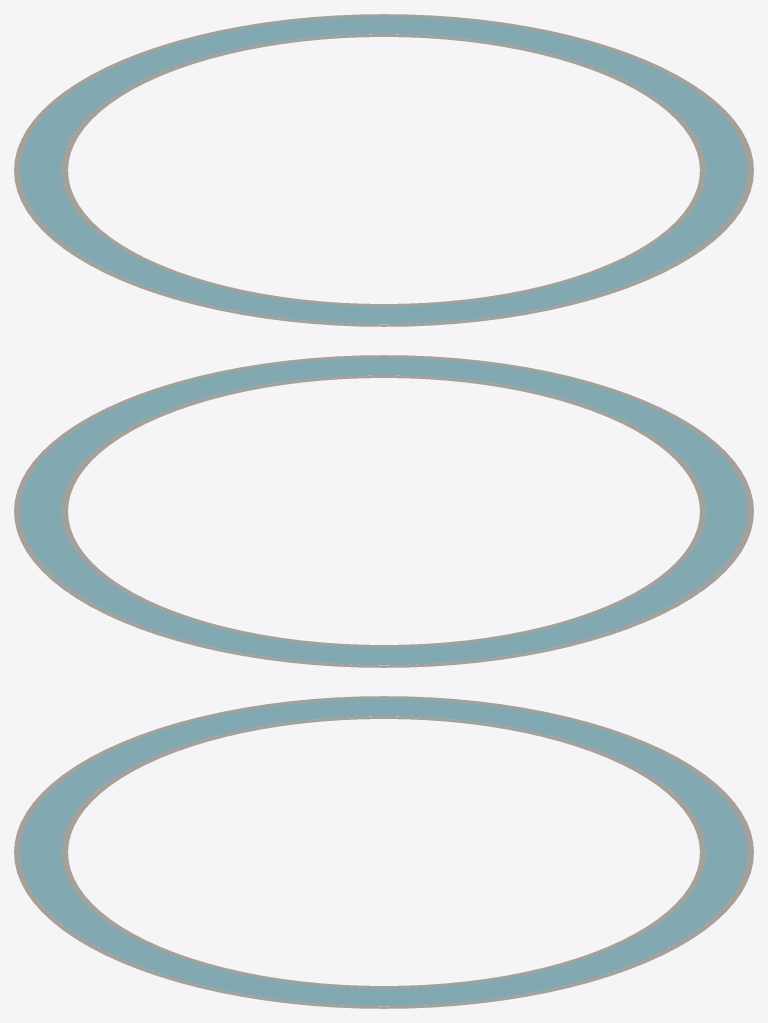
Rendered from river_ring_candidate.glb.
3 renders of one model, top to bottom at view 1: azimuth 30°, elevation 25°; view 2: azimuth 150°, elevation 25°; view 3: azimuth 270°, elevation 25°, orthographic.
Parts seen in each view (by area): view 1: river_ring_candidate_0, river_ring_candidate_2, river_ring_candidate_1; view 2: river_ring_candidate_0, river_ring_candidate_2, river_ring_candidate_1; view 3: river_ring_candidate_0, river_ring_candidate_2, river_ring_candidate_1.
Part boxes in pixels (box(x1,y1,x2,y2)): river_ring_candidate_0: box(20, 16, 747, 324); river_ring_candidate_2: box(14, 14, 753, 326); river_ring_candidate_1: box(62, 34, 705, 306); river_ring_candidate_0: box(20, 357, 747, 665); river_ring_candidate_2: box(14, 355, 753, 667); river_ring_candidate_1: box(62, 375, 705, 647); river_ring_candidate_0: box(20, 698, 747, 1006); river_ring_candidate_2: box(14, 696, 753, 1008); river_ring_candidate_1: box(62, 716, 705, 988).
Bounding box in the file's own units: 71.2 × 0.005 × 71.2.
